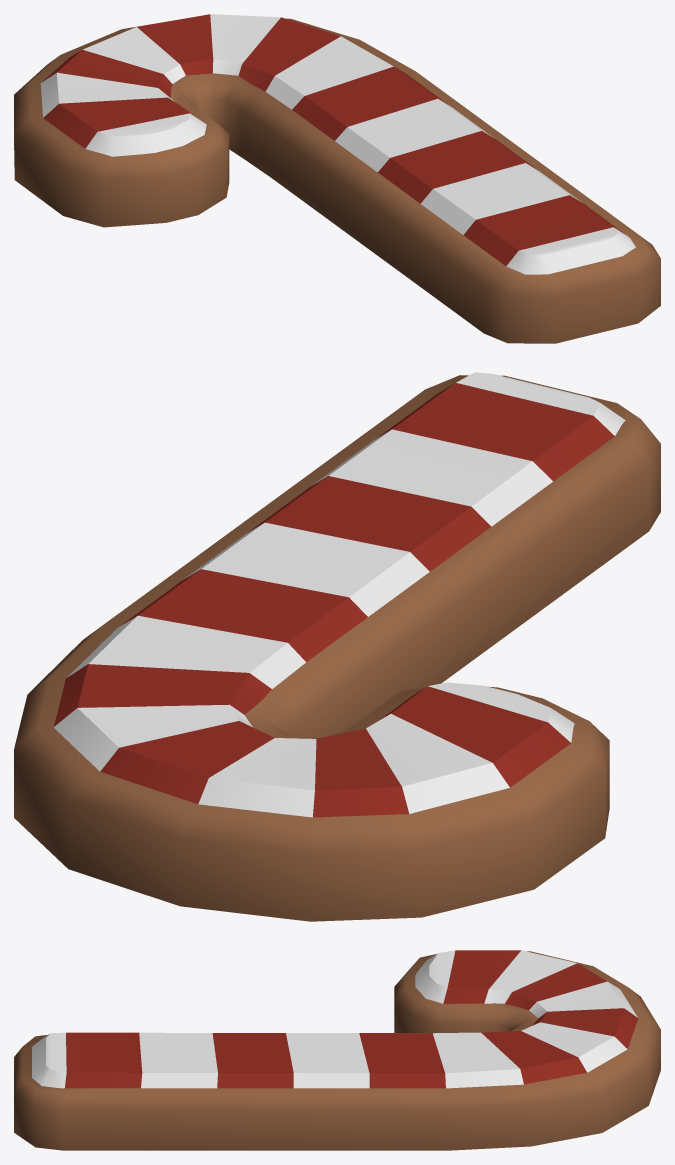
File: CookieCandyCane_01.fbx
The picture shows the model from 3 angles, top to bottom: view 1: azimuth 30°, elevation 25°; view 2: azimuth 150°, elevation 25°; view 3: azimuth 270°, elevation 25°; orthographic projection. The views are drawn at different scales.
Parts seen in each view (by area): view 1: CookieCandyCane_01; view 2: CookieCandyCane_01; view 3: CookieCandyCane_01.
Part boxes in pixels (x1,y1,x2,y2): CookieCandyCane_01: (14, 14, 660, 343); CookieCandyCane_01: (14, 372, 660, 921); CookieCandyCane_01: (14, 950, 660, 1150).
Size of the model in its own units: 0.0861 by 0.0168 by 0.1541.
